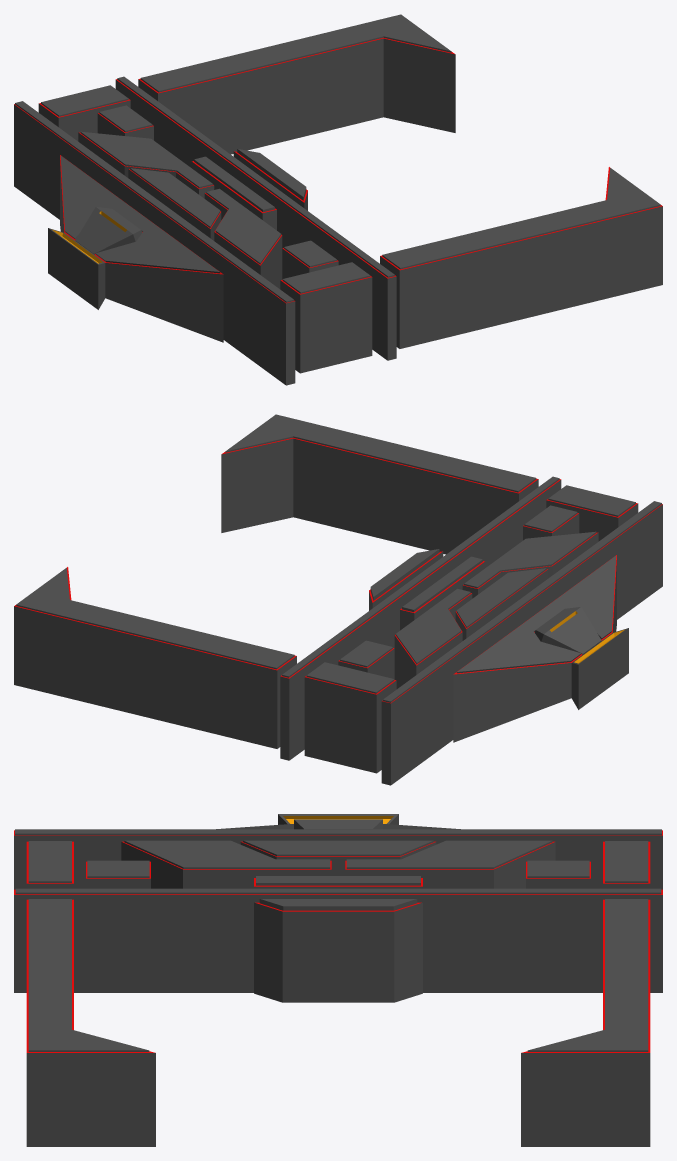
Rendered from Carrier.dae.
3 renders of one model, top to bottom at view 1: azimuth 30°, elevation 25°; view 2: azimuth 150°, elevation 25°; view 3: azimuth 270°, elevation 25°, orthographic. The views are drawn at different scales.
Parts seen in each view (by area): view 1: Recognizer_Program_-_TRON (×27); view 2: Recognizer_Program_-_TRON (×27); view 3: Recognizer_Program_-_TRON (×30).
Boxes of the visible parts, x1,y1,x2,y2 form: Recognizer_Program_-_TRON (×27): [14, 14, 662, 385]; Recognizer_Program_-_TRON (×27): [14, 414, 662, 785]; Recognizer_Program_-_TRON (×30): [14, 814, 662, 1146].
Size of the model in its own units: 203 by 209 by 35.4.
